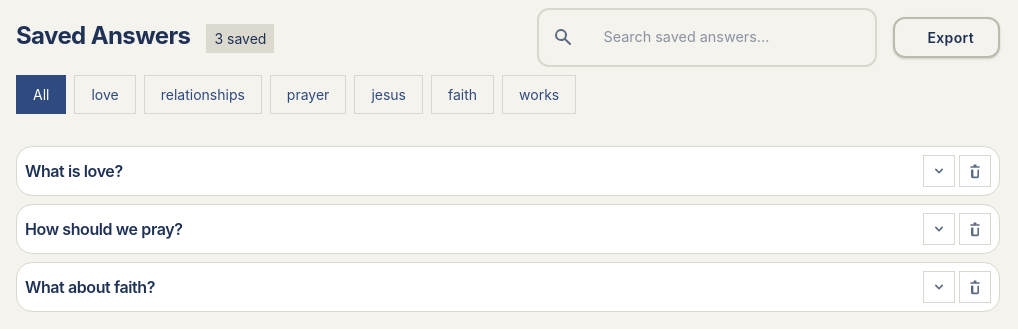
Test case: SavedAnswers.vue › clears the search query when clear button is clicked
Type "love" into the search field with class "search-input" at {"x": 707, "y": 37}, box [537,8,877,67]
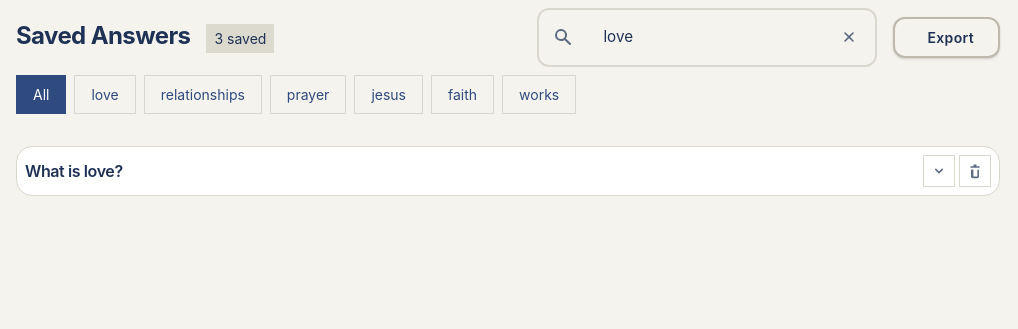
Check: the number of elements with class "answer-card" is 1, box [16,146,1000,196]
Click the button with class "search-clear" at {"x": 849, "y": 37}, box [837,25,861,49]
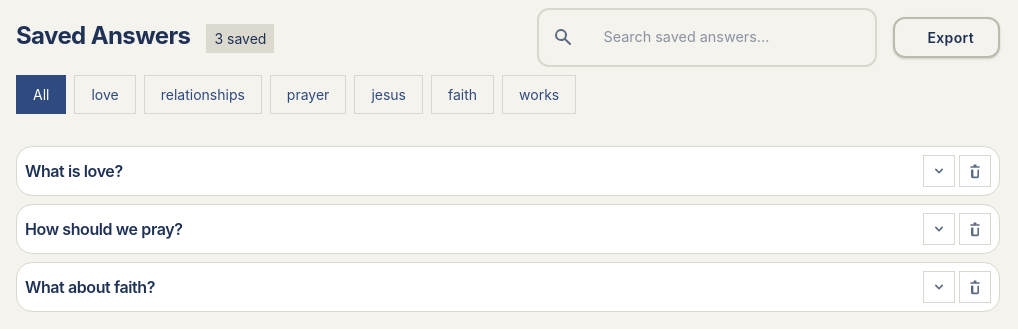
Check: the number of elements with class "answer-card" is 3, box [16,146,1000,196]; [16,204,1000,254]; [16,262,1000,312]
